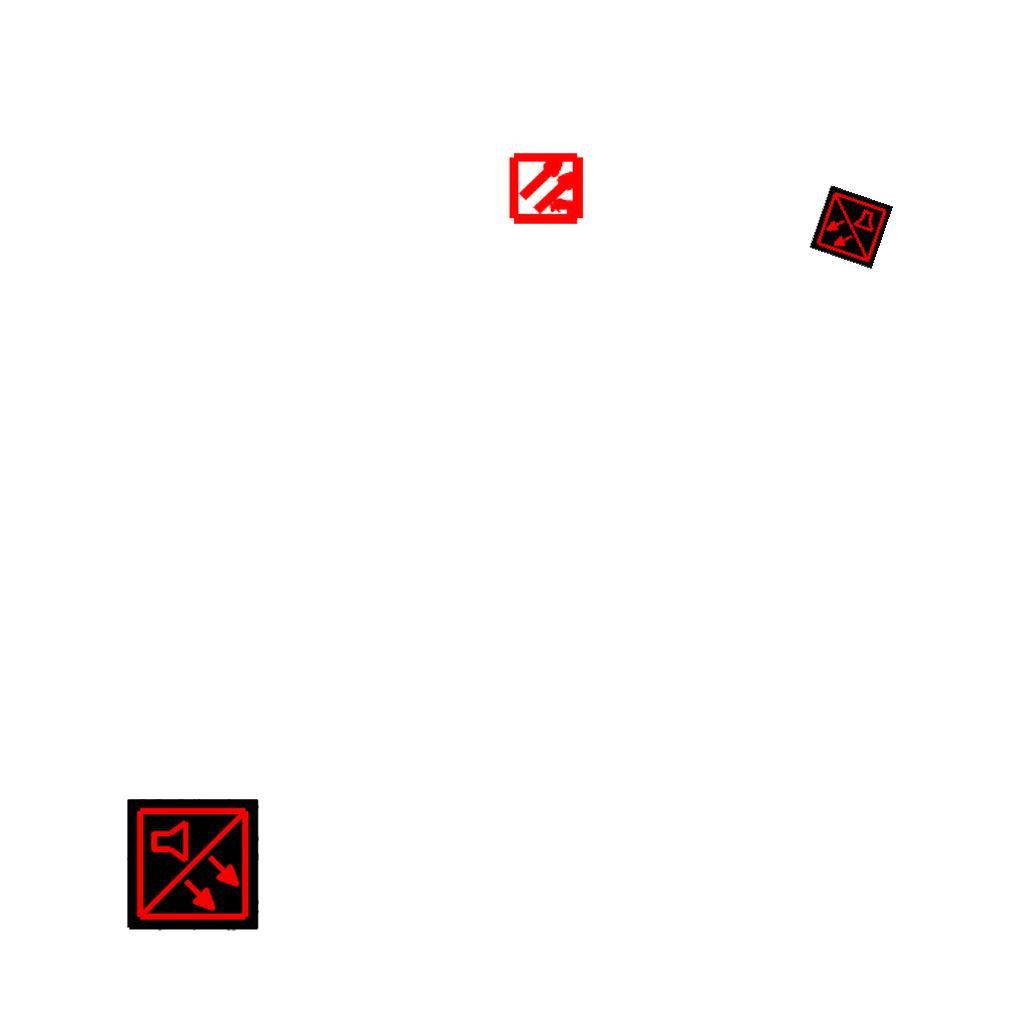OKW_Multisensormelder_(Kombination_optischer_Rauch-Kahlenmonoxid_Waerme-Melder): (127, 799, 259, 931), (809, 185, 893, 269)
OT_Multisensormelder_(Kombination_RMO_WMD): (492, 132, 605, 245)
